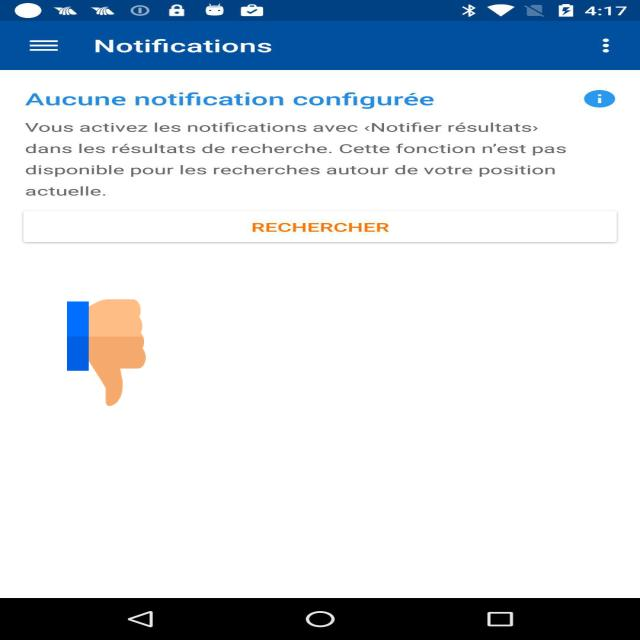obstruction: (67, 296, 146, 408)
